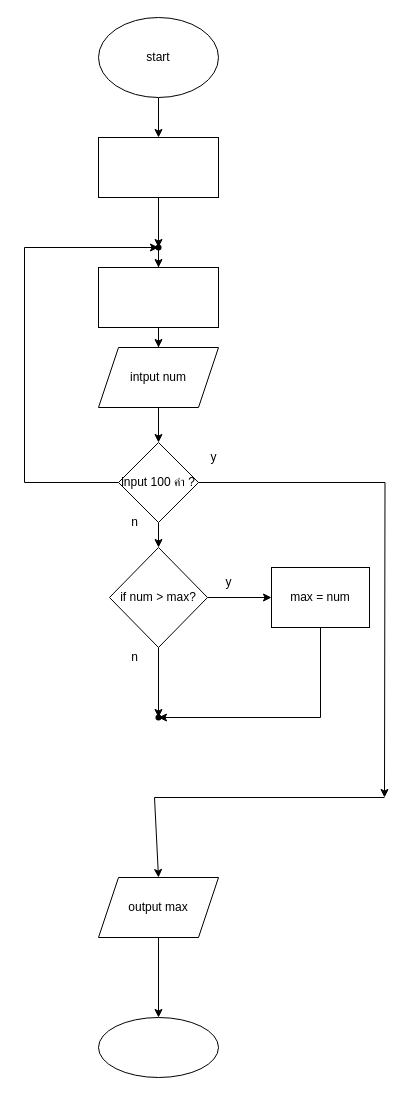
Some shapes in this 411 by 1095 pixel diagram are drawn without their labels. Here are the shapes that lost their labels. From the top down, the centre of each, then its label:
At pixel 158 167: "int max-9999 int num".
At pixel 158 297: "ตรวจสอบจำนวนครั้งที่กรอก".
At pixel 158 1047: "stop".
